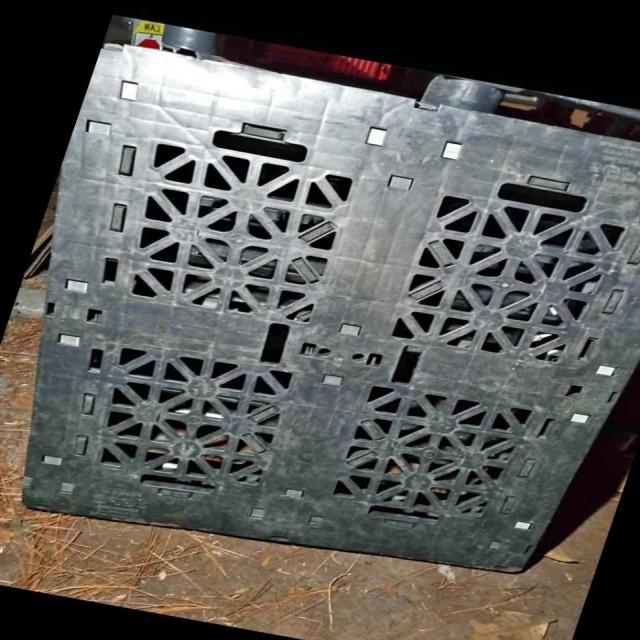igps: (11, 29, 640, 578)
